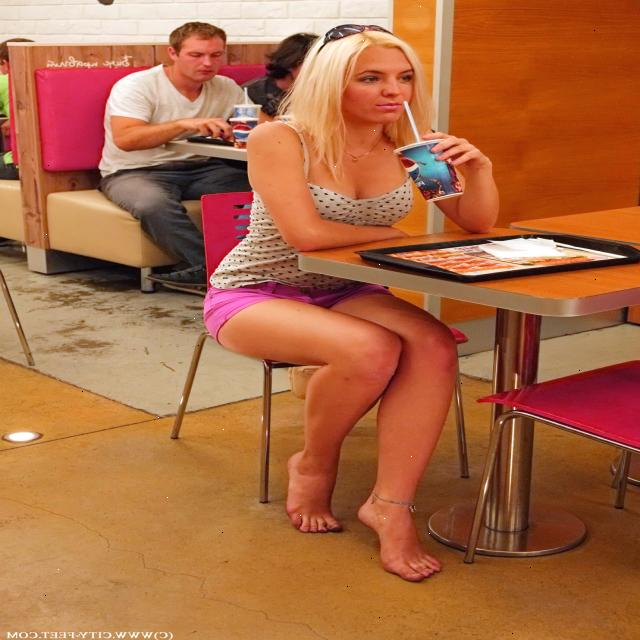No Safety Boots: (357, 497, 442, 582), (286, 451, 343, 533)
